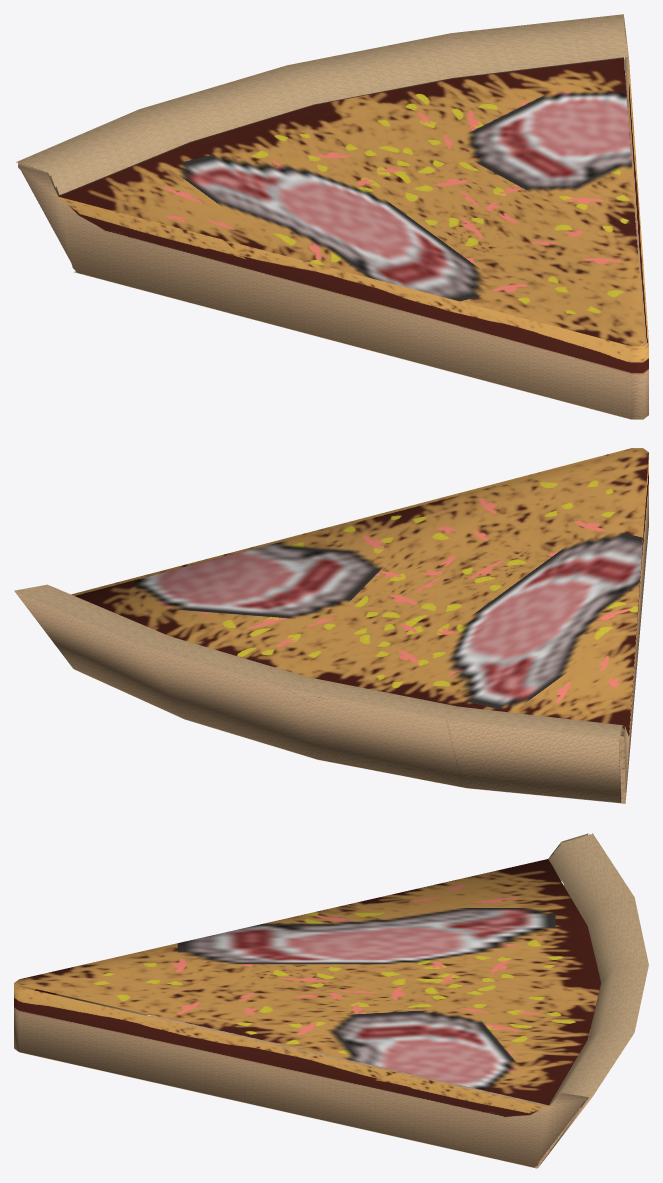
Rendered from WorldItem_PizzaRumHamSlice.fbx.
3 renders of one model, top to bottom at view 1: azimuth 30°, elevation 25°; view 2: azimuth 150°, elevation 25°; view 3: azimuth 270°, elevation 25°, orthographic. The views are drawn at different scales.
Parts seen in each view (by area): view 1: Pie_Lemonmeringue001; view 2: Pie_Lemonmeringue001; view 3: Pie_Lemonmeringue001.
Boxes of the visible parts, x1,y1,x2,y2 form: Pie_Lemonmeringue001: (16, 14, 648, 419); Pie_Lemonmeringue001: (14, 448, 648, 803); Pie_Lemonmeringue001: (14, 833, 648, 1168).
Bounding box in the file's own units: 22.09 × 3.25 × 22.34.
